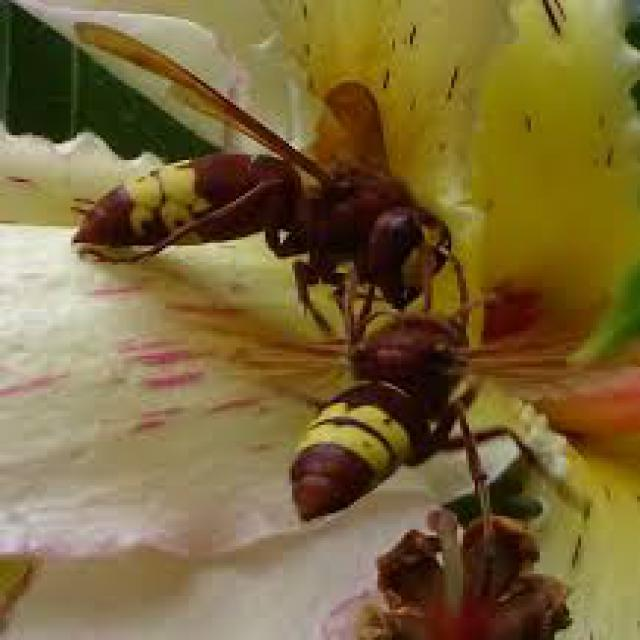Vespa Orientalis: (31, 11, 491, 337), (237, 304, 583, 559)
